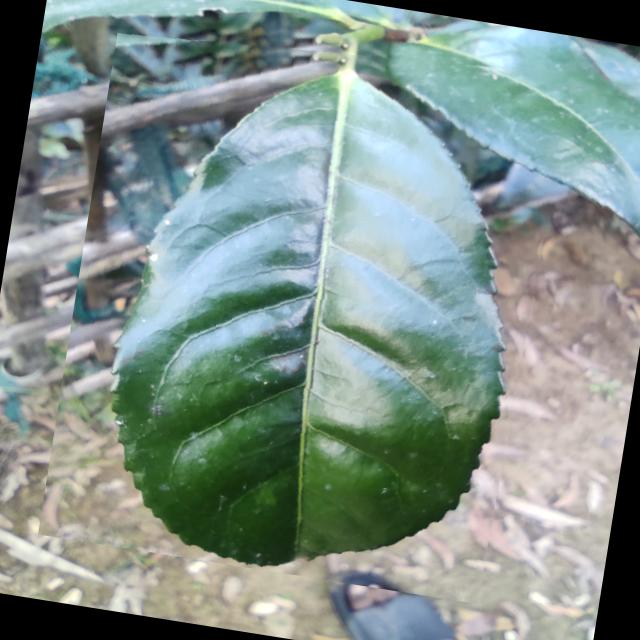Category D(7+ days, Not for Tea): (38, 4, 574, 606)
